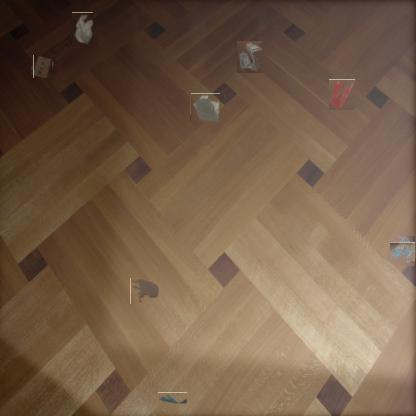dirty: (190, 93, 220, 122), (237, 41, 263, 73), (72, 12, 93, 45), (393, 239, 416, 263), (32, 56, 54, 77), (157, 392, 187, 405)
liquid: (329, 79, 355, 110), (130, 278, 159, 304)
